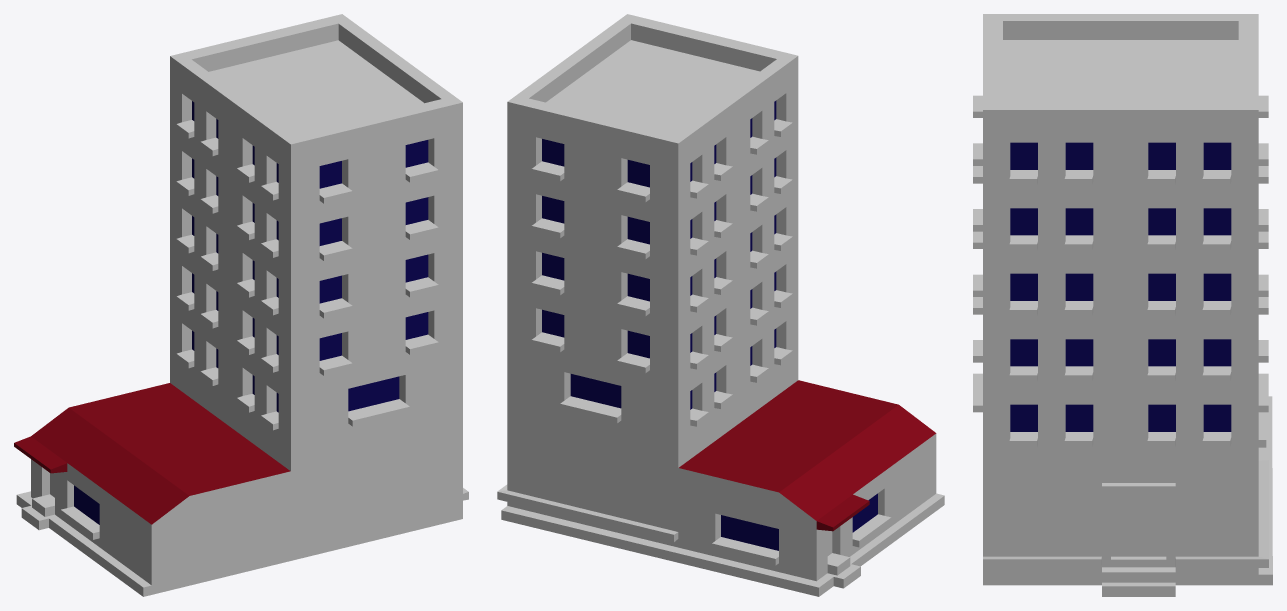
File: finca1.dae
3 views of the same model, side by side, from view 1: azimuth 30°, elevation 25°; view 2: azimuth 150°, elevation 25°; view 3: azimuth 270°, elevation 25° (orthographic). The views are drawn at different scales.
Visible parts, largest first — view 1: finca, techo, tienda, cornisa, techo2, cristal, cornisa2, bordillo; view 2: finca, techo, cornisa, tienda, techo2, cristal, bordillo, cornisa2; view 3: finca, cornisa, cristal, techo2, cornisa2, bordillo, puerta.
Part boxes in pixels (bbox=[...]): finca: bbox=[170, 23, 462, 551]; techo: bbox=[14, 383, 290, 524]; tienda: bbox=[31, 459, 290, 594]; cornisa: bbox=[21, 120, 468, 539]; techo2: bbox=[209, 40, 423, 134]; cristal: bbox=[74, 101, 428, 524]; cornisa2: bbox=[170, 14, 462, 144]; bordillo: bbox=[16, 491, 462, 596]; finca: bbox=[507, 23, 798, 547]; techo: bbox=[679, 380, 936, 531]; cornisa: bbox=[497, 119, 891, 588]; tienda: bbox=[678, 434, 936, 581]; techo2: bbox=[546, 40, 759, 133]; cristal: bbox=[542, 100, 877, 550]; bordillo: bbox=[501, 493, 944, 596]; cornisa2: bbox=[508, 14, 797, 143]; finca: bbox=[983, 21, 1258, 574]; cornisa: bbox=[973, 95, 1268, 596]; cristal: bbox=[1010, 142, 1231, 431]; techo2: bbox=[1003, 40, 1238, 102]; cornisa2: bbox=[983, 14, 1258, 109]; bordillo: bbox=[983, 396, 1272, 585]; puerta: bbox=[1111, 495, 1166, 556].
Bounding box in the file's own units: 322 × 209 × 365.
